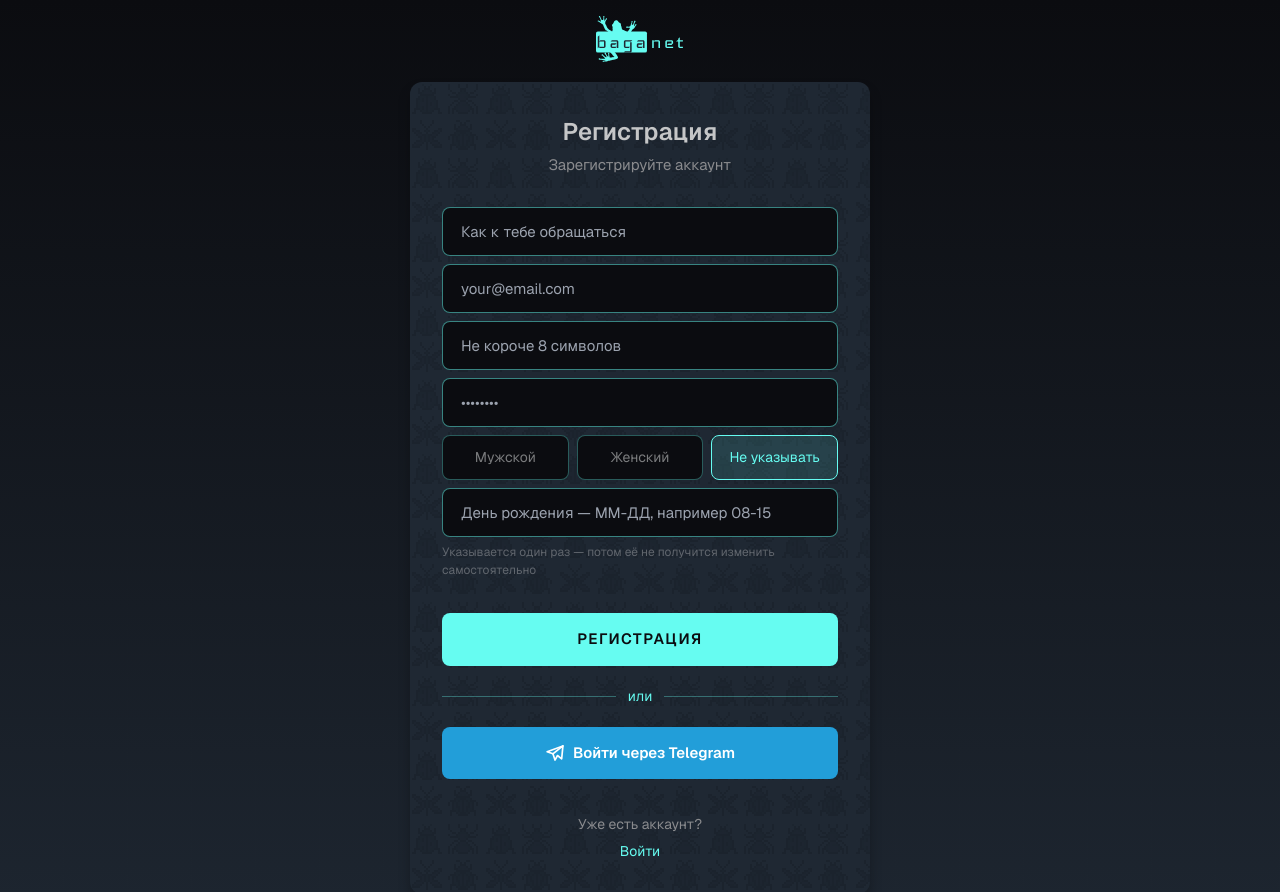
Test: RegisterPage submission › falls back to its own message when the server sends none
Type "Новичок" into the field with placeholder "Как к тебе обращаться" at [640, 231], box x1=442 y1=206 x2=838 y2=256
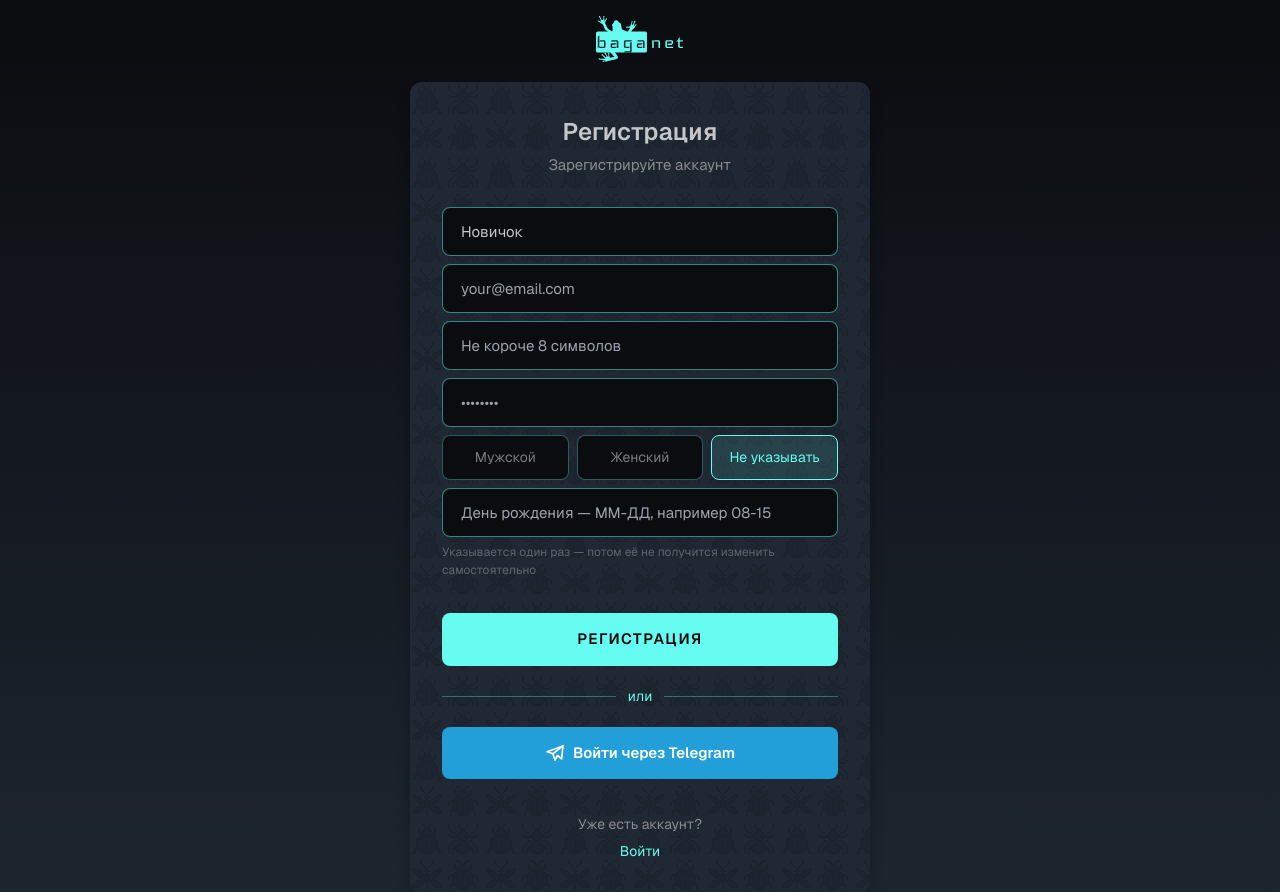
Type "new@qa.com" into the field with placeholder "your@email.com" at [640, 288], box x1=442 y1=264 x2=838 y2=312
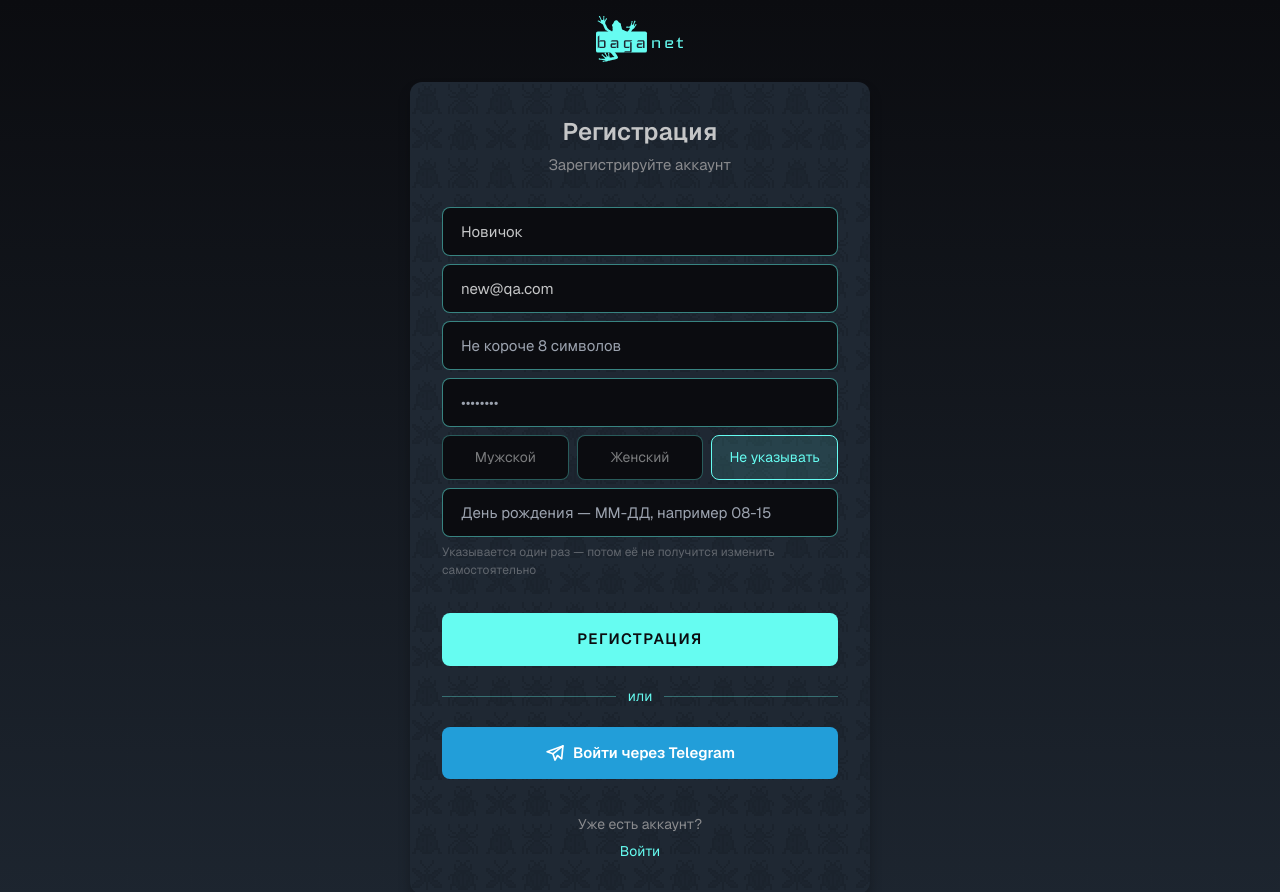
Type "longenough1" into the password field with placeholder "Не короче 8 символов" at [640, 345], box x1=442 y1=320 x2=838 y2=370
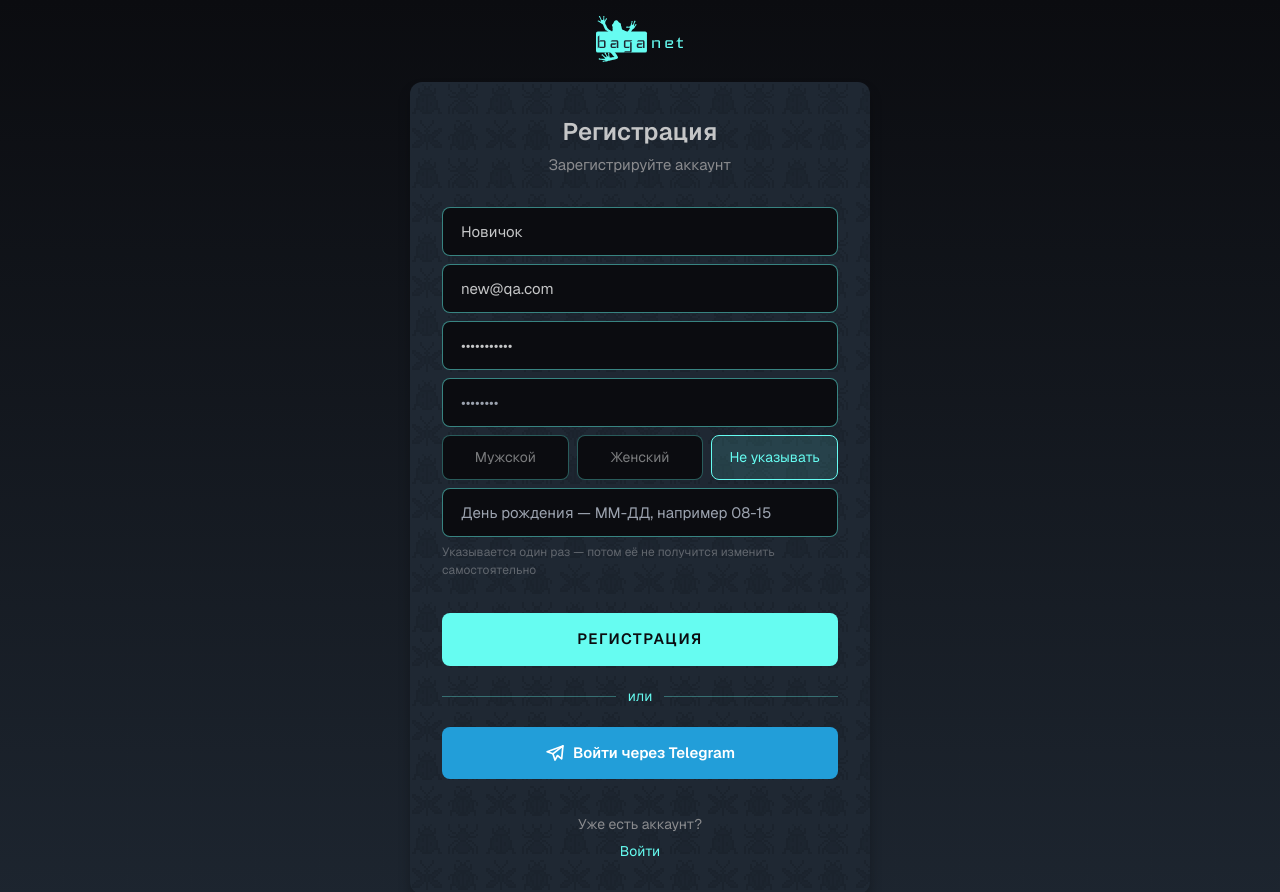
Type "longenough1" into the password field with placeholder "••••••••" at [640, 402], box x1=442 y1=378 x2=838 y2=426
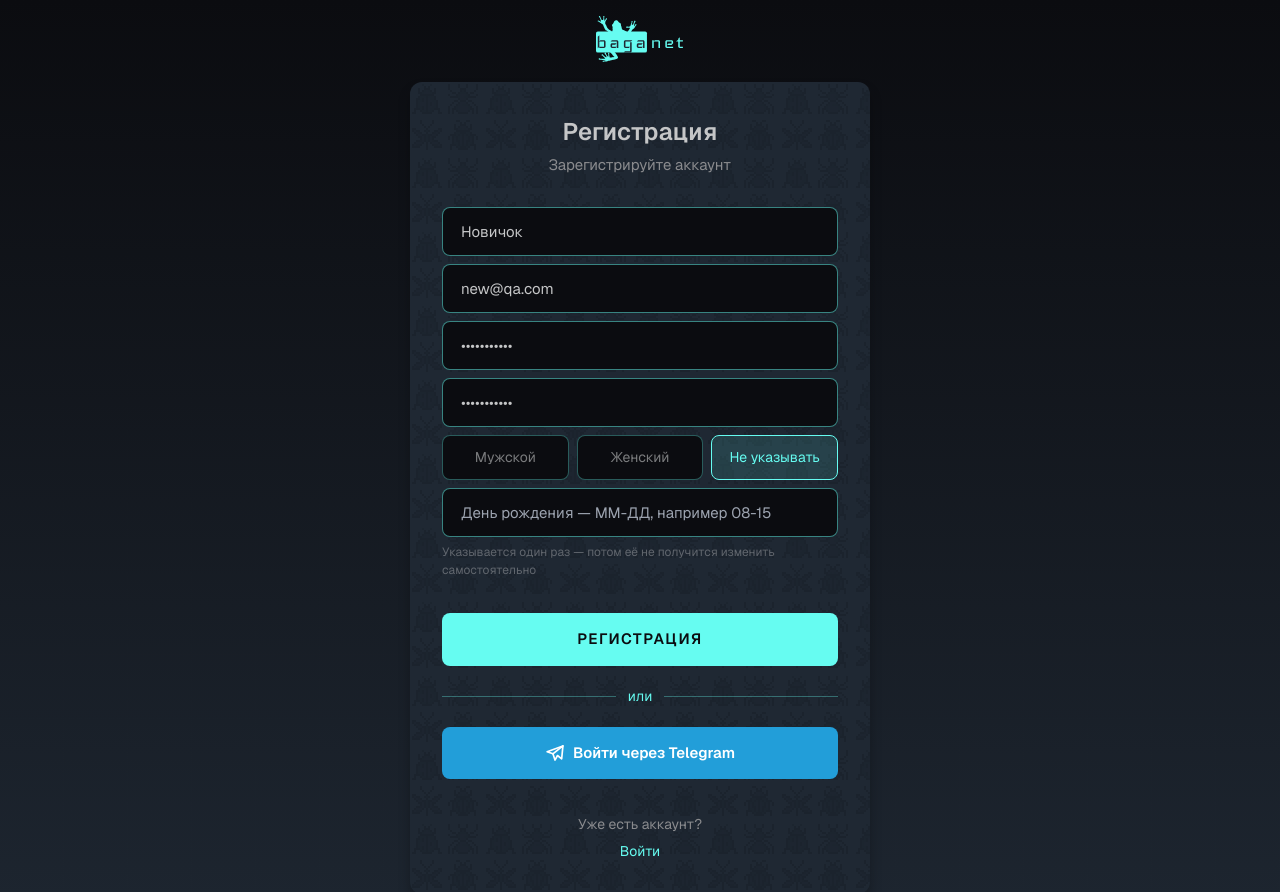
Click the button "Регистрация" at [640, 639], box x1=442 y1=613 x2=838 y2=666
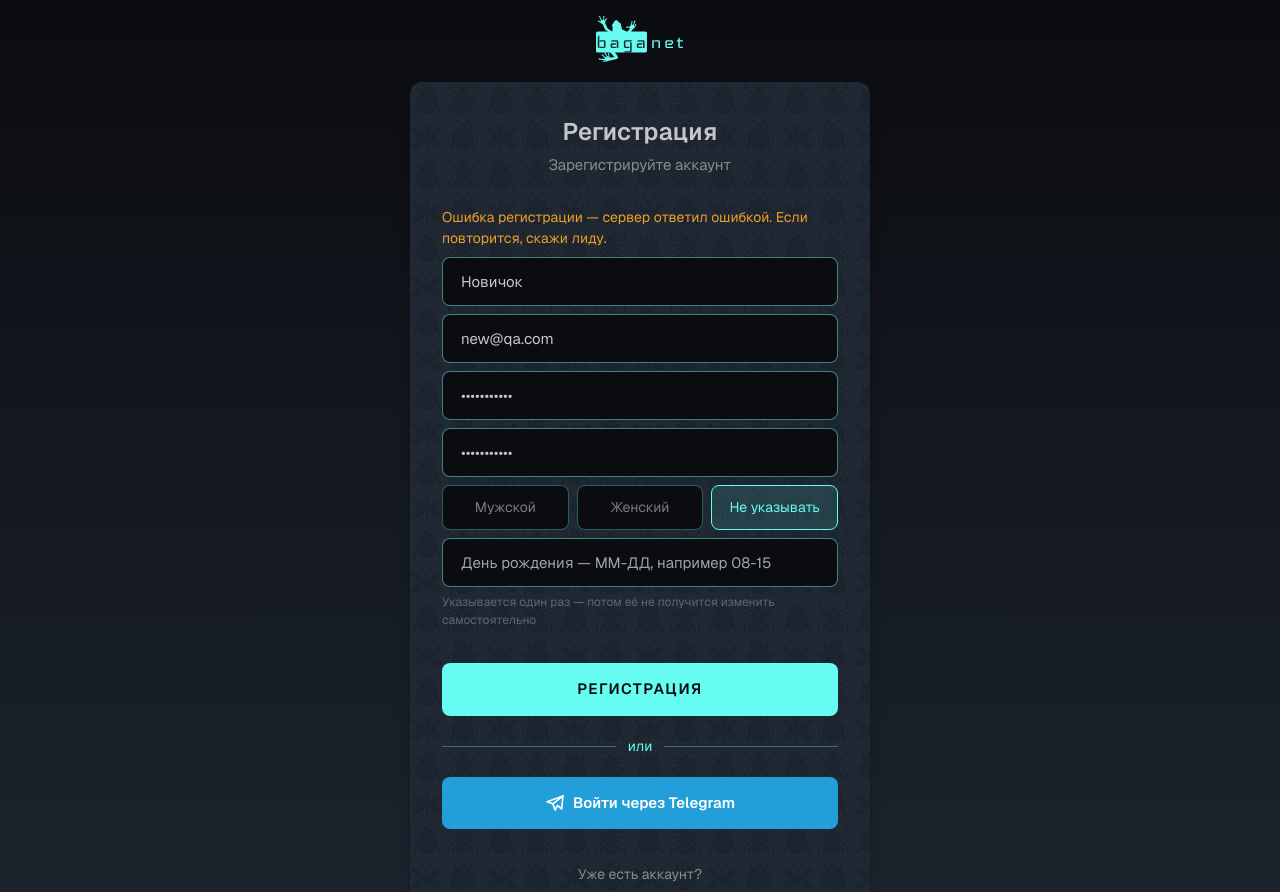
Check: the text "Ошибка регистрации — сервер ответил ошибкой. Если повторится, скажи лиду." is shown, box x1=442 y1=206 x2=838 y2=248
